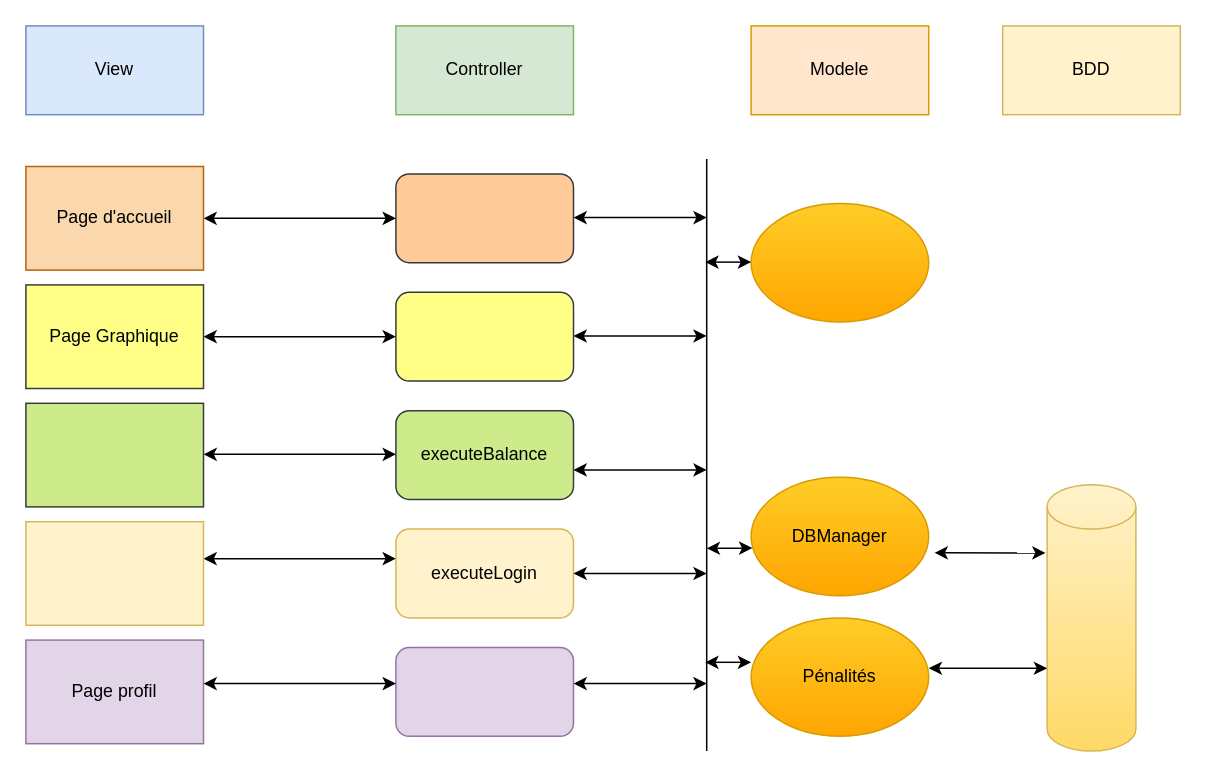
Some shapes in this 1206 by 778 pixel diagram are drawn without their labels. Each missing label, with the centre of its shape:
"Classes" belongs at point 839,262.
"executeAccueil" belongs at point 484,217.
"executeGraphique" belongs at point 484,336.
"executeProfil" belongs at point 484,691.
"Page Balance" belongs at point 114,454.
"Page Login" belongs at point 114,572.
